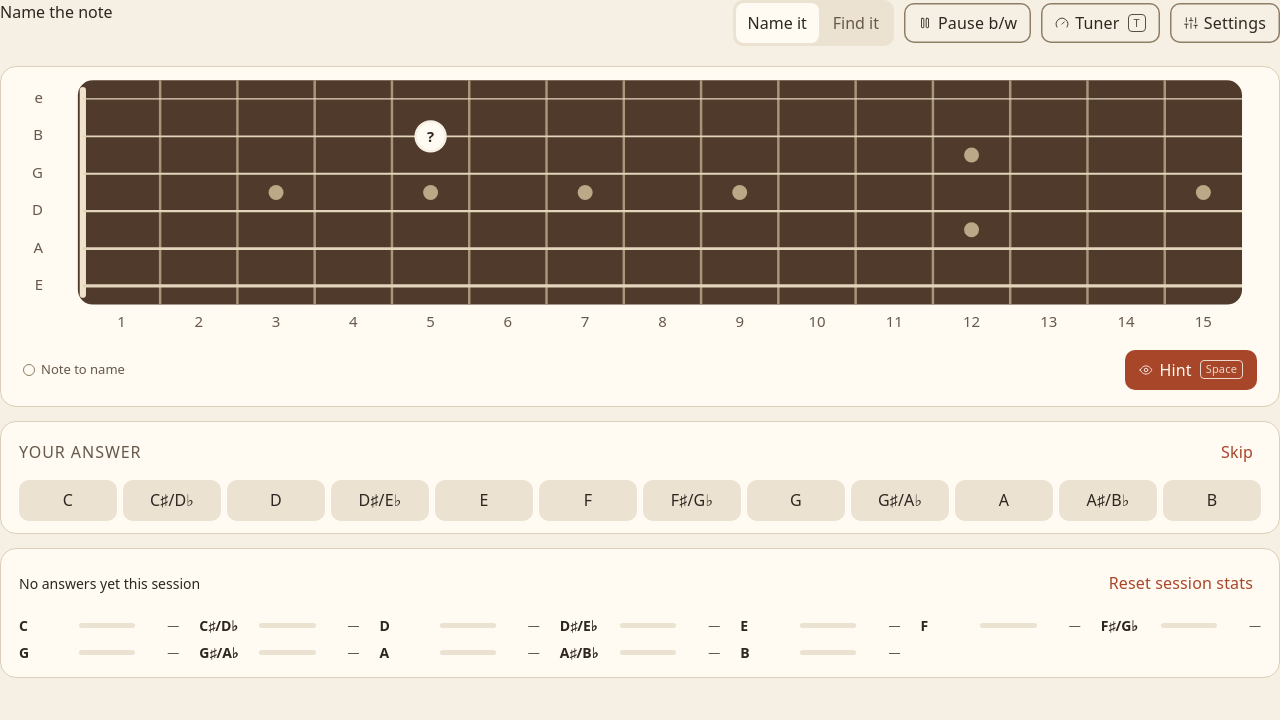
NoteTrainer › opens settings in a modal dialog and closes it
Click the button "Settings": point(1225, 23) [1170,3,1279,43]
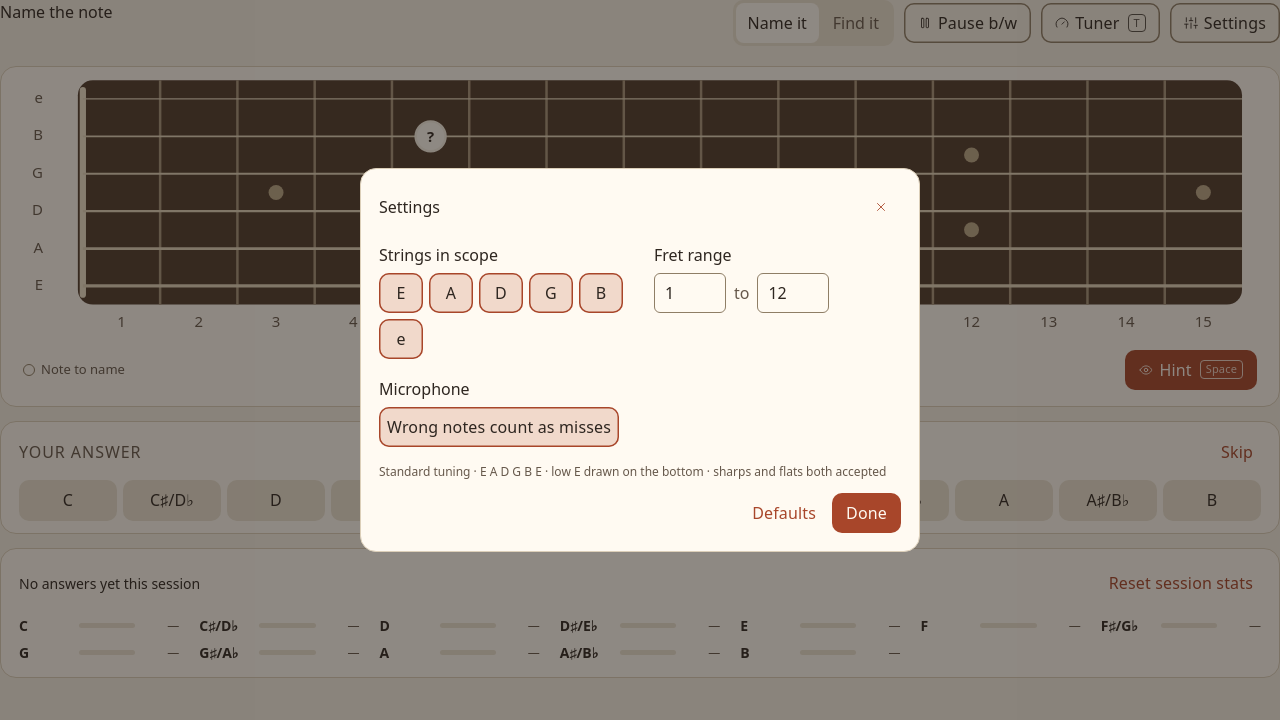
expect the element "Strings in scope" is shown: met, box [379,243,626,359]
expect the element "Fret range" is shown: met, box [654,244,830,313]
Click the button named "Close settings": point(881, 207) [861,187,901,227]
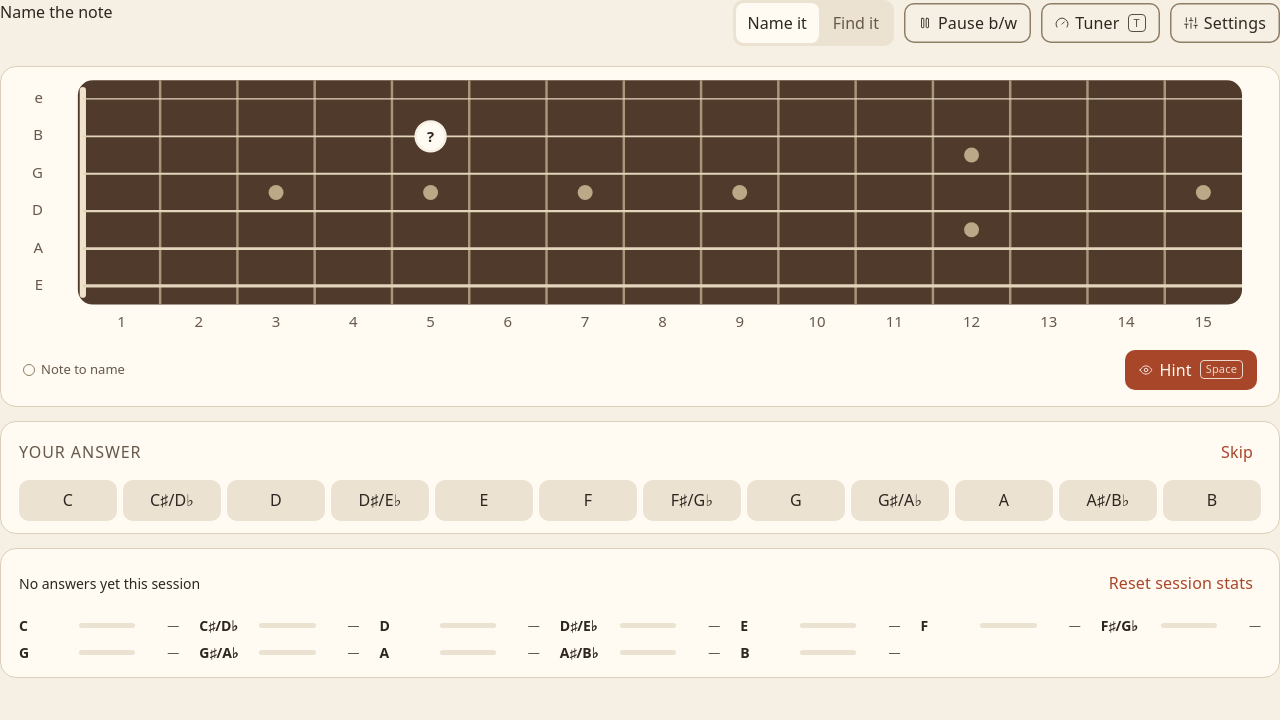
expect the dialog is gone: met
